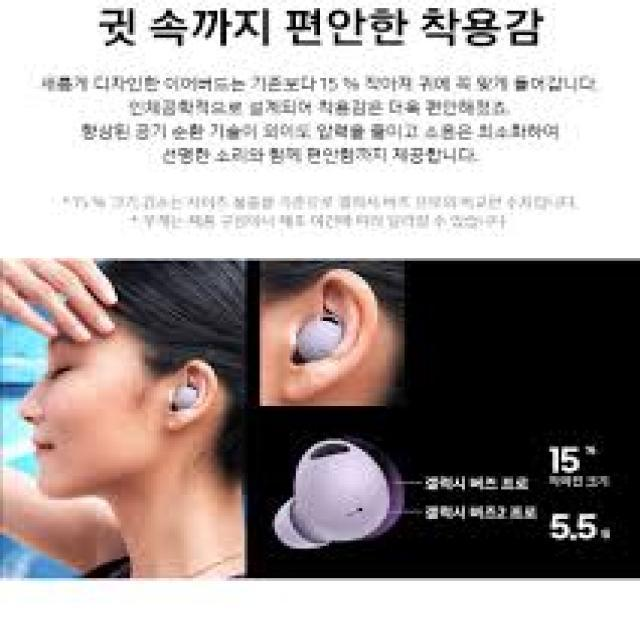earphone: (290, 432, 392, 565), (286, 297, 342, 395), (167, 385, 215, 427)
